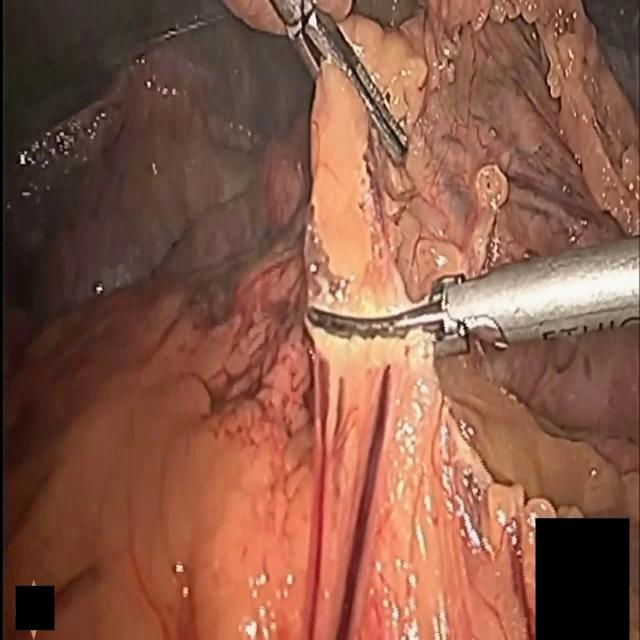surgical-area: (3, 0, 640, 639)
surgical-tool: (306, 236, 640, 360), (269, 0, 408, 166)
